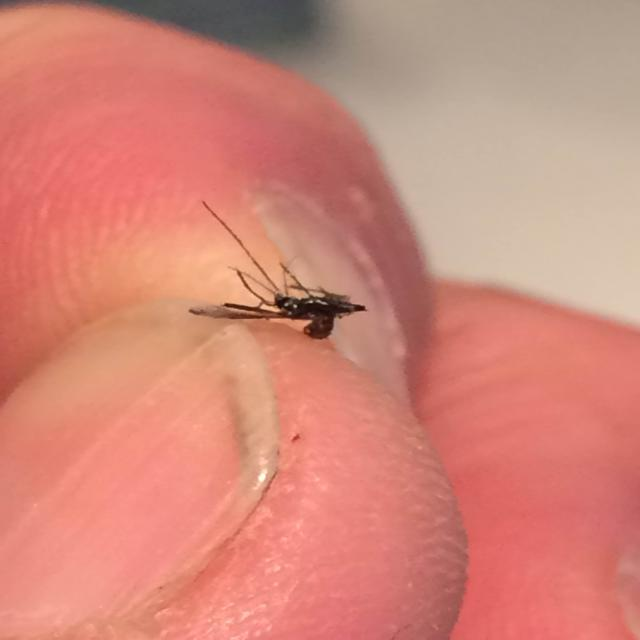albopictus: (172, 197, 382, 353)
